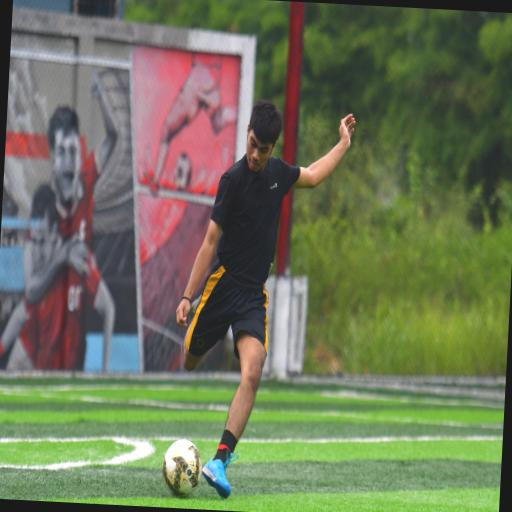shoe: (202, 454, 237, 498)
